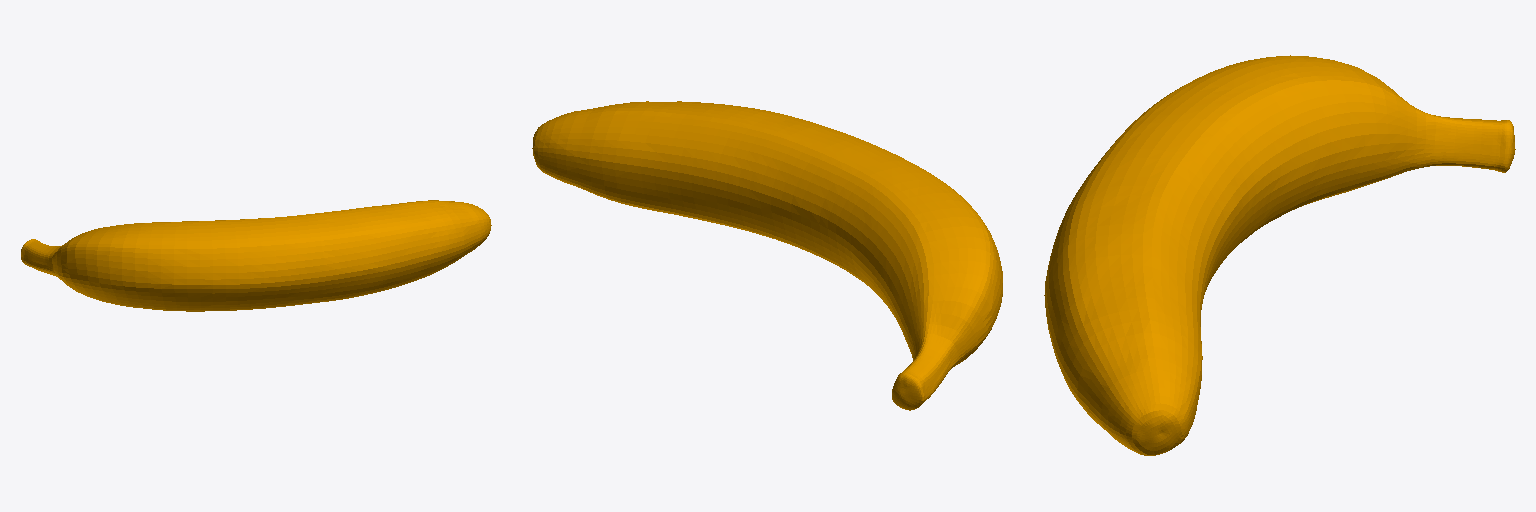
URDF robot description (banana):
<?xml version="1.0"?>
<robot name="banana">
  <link name="banana">
    <visual>
      <origin xyz="0.0 0.0 0.0"/>
      <geometry>
        <mesh filename="textured.obj" scale="0.01 0.01 0.01"/>
      </geometry>
    </visual>
    <collision>
      <origin xyz="0.0 0.0 0.0"/>
      <geometry>
        <mesh filename="textured.obj" scale="0.01 0.01 0.01"/>
      </geometry>
    </collision>
    <inertial>
      <mass value="0.068"/>
      <inertia ixx="0.0001" ixy="0.0" ixz="0.0" iyy="0.0001" iyz="0.0" izz="0.0001"/>
    </inertial>
  </link>
</robot>

--- Facts derived from the render (not from the file) ---
Views: 3 orthographic renders of the robot side by side, from view 1: azimuth 30°, elevation 25°; view 2: azimuth 150°, elevation 25°; view 3: azimuth 270°, elevation 25°.
Robot: banana — 1 links, 0 joints (none); root link banana; default pose: every joint at zero.
Visible links, largest first — view 1: banana; view 2: banana; view 3: banana.
Boxes of the visible links, x1,y1,x2,y2 form: banana: [21, 200, 491, 311]; banana: [532, 101, 1002, 410]; banana: [1044, 55, 1515, 455].
Bounding box of the posed robot: 0.1783 × 0.1088 × 0.0367 m (x, y, z).
Meshes: 1 distinct files referenced, 1 mesh visuals loaded (1 OBJ).
